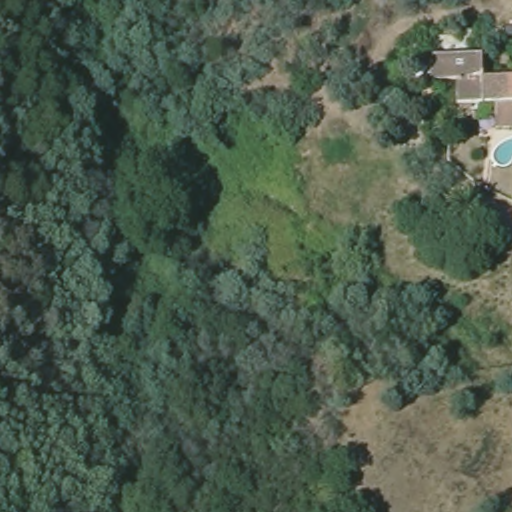pool: (490, 132, 512, 169)
